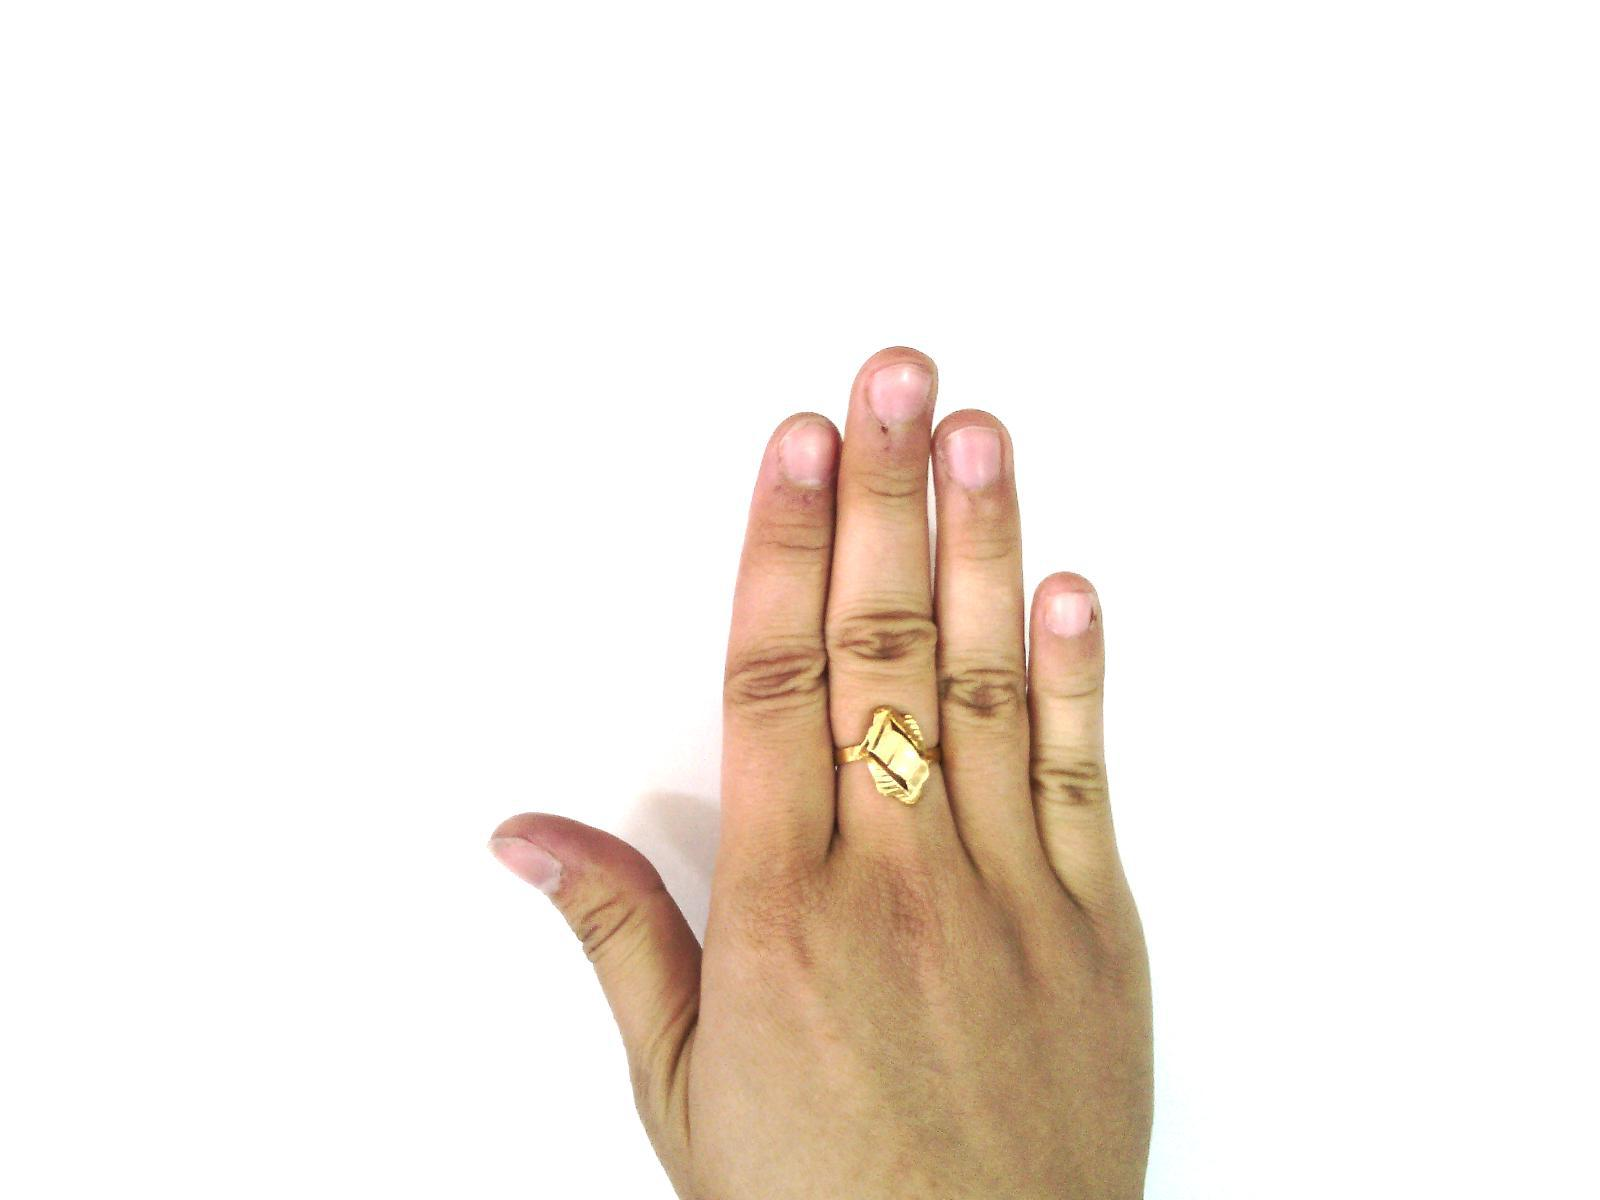hand: (488, 343, 1168, 1200)
